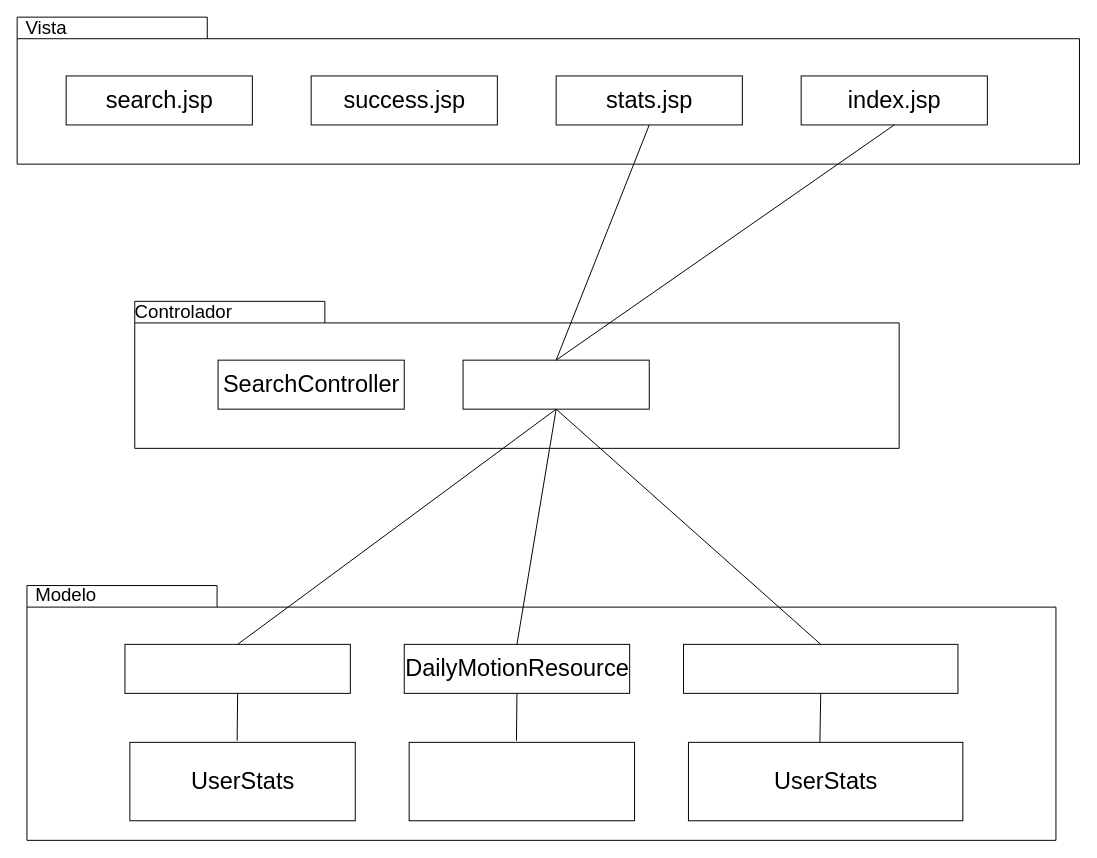
Some shapes in this 1097 by 858 pixel diagram are drawn without their labels. The centre of each missing label's shape, as x and y in pixels:
DeviantArtResource: [820,668]
StatsController: [555,384]
Use rStats: [521,781]
YoutubeResource: [237,668]
